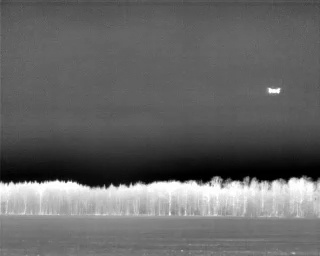DRONE: (264, 82, 285, 98)
